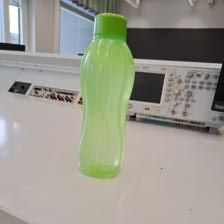bottle: (73, 13, 138, 180)
